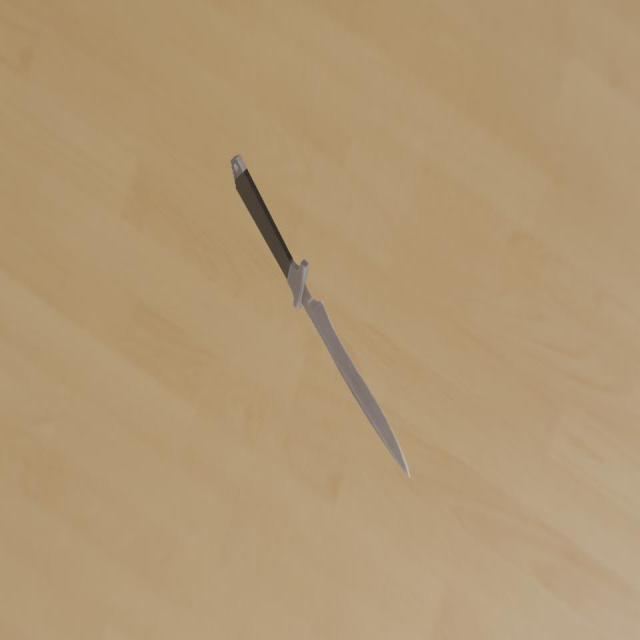knife: (231, 156, 293, 280)
